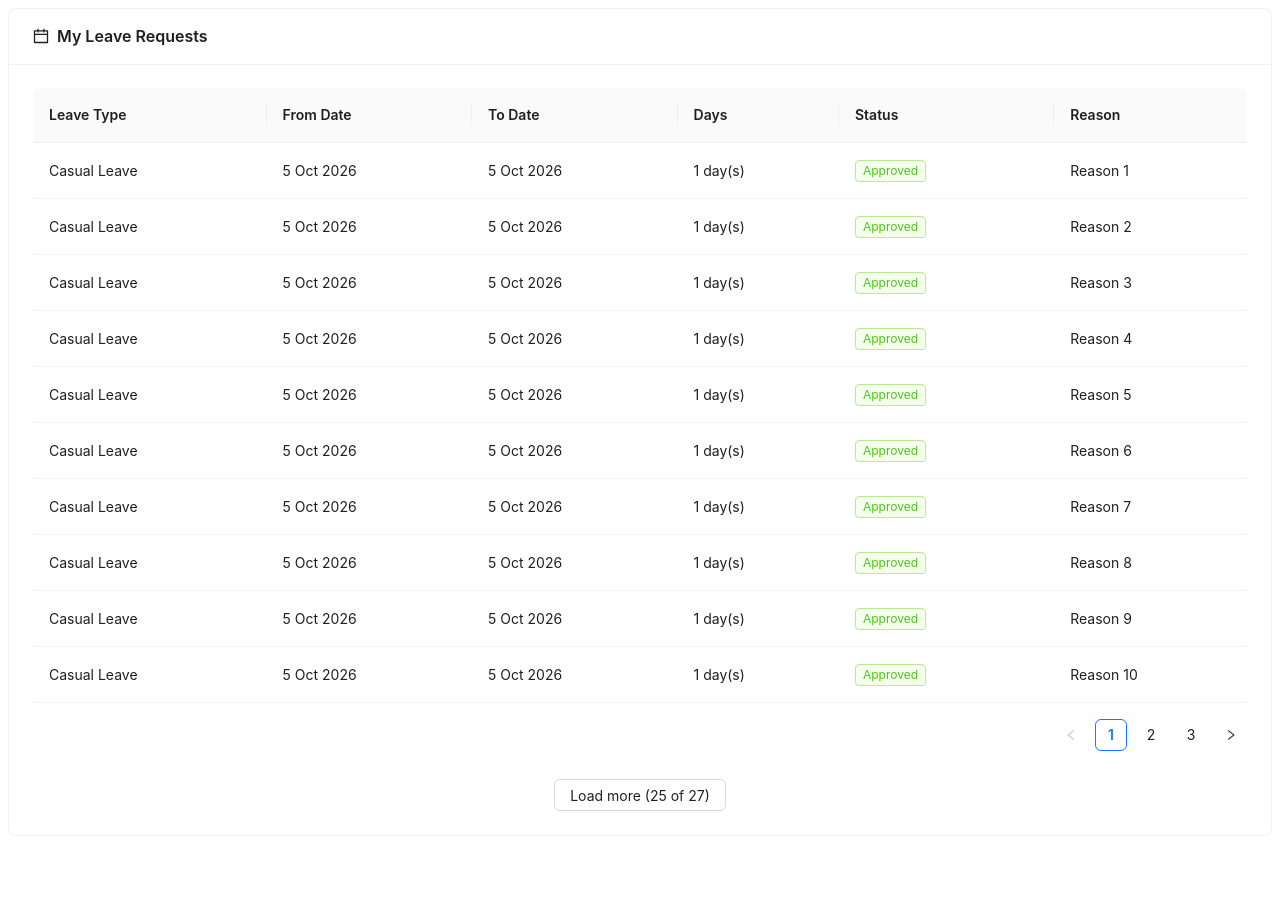
Test: MyLeave pages its requests on the server (D-80) › asks for the first page, then the next on Load more, until all are loaded
The image size is (1280, 900).
Click the button "Load more (25 of 27)" at (640, 795), box x1=554 y1=779 x2=726 y2=811
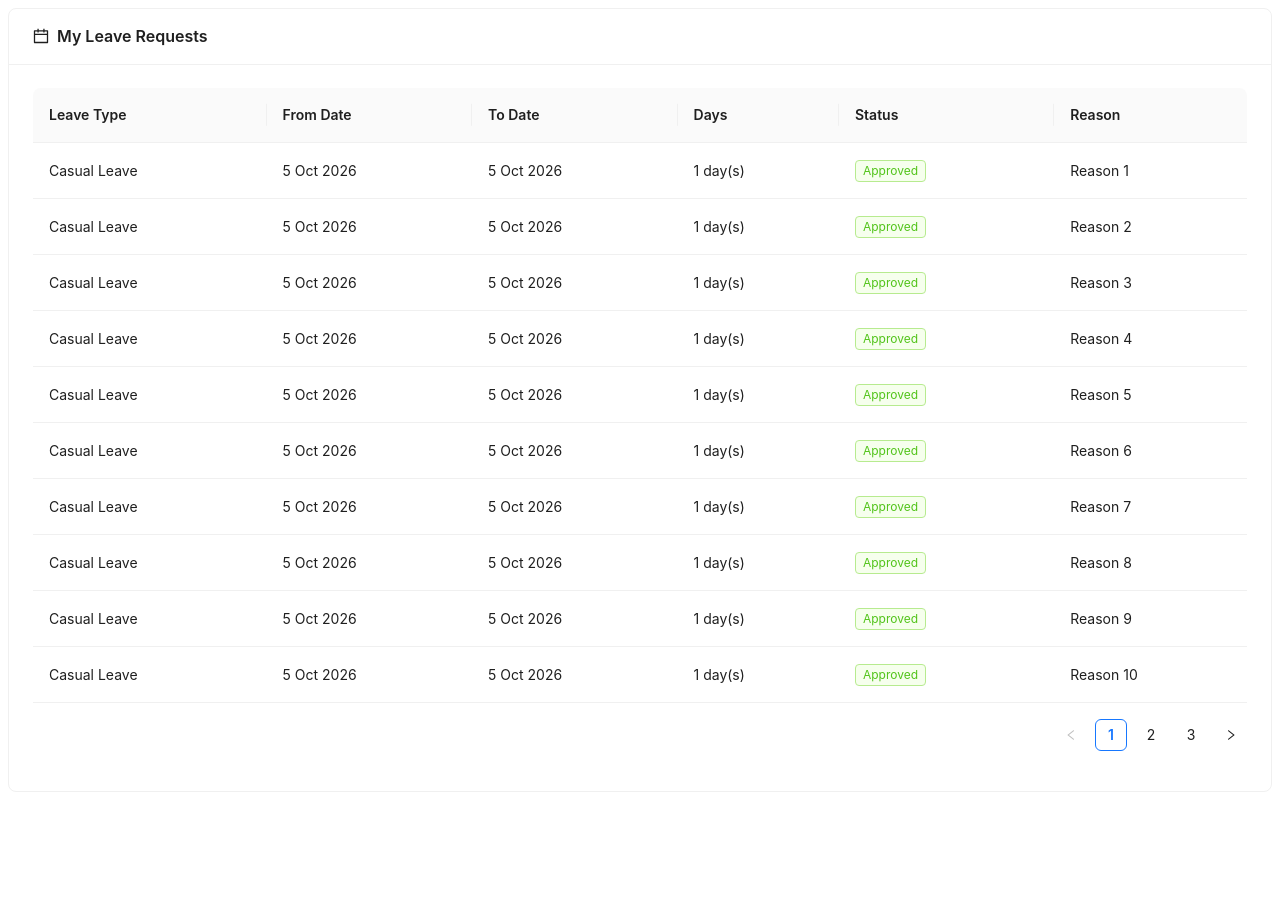
Expected: the button "Load more" is gone
